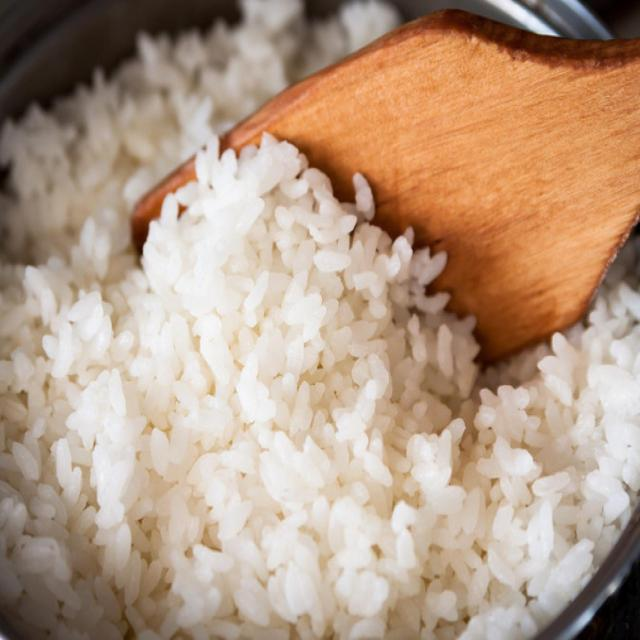arroz: (0, 1, 635, 634)
